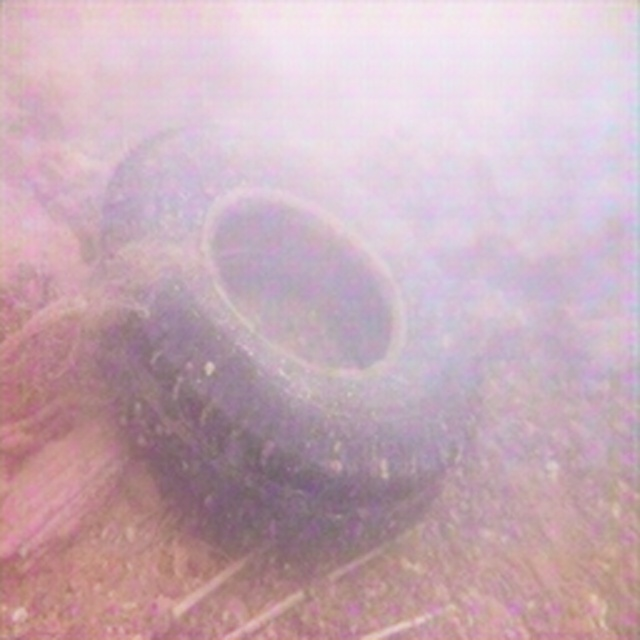mine: (101, 121, 484, 568)
